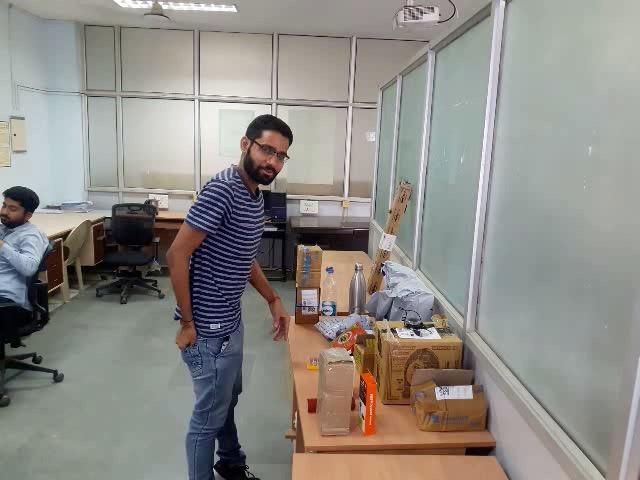shoplifting: (161, 316, 209, 381)
